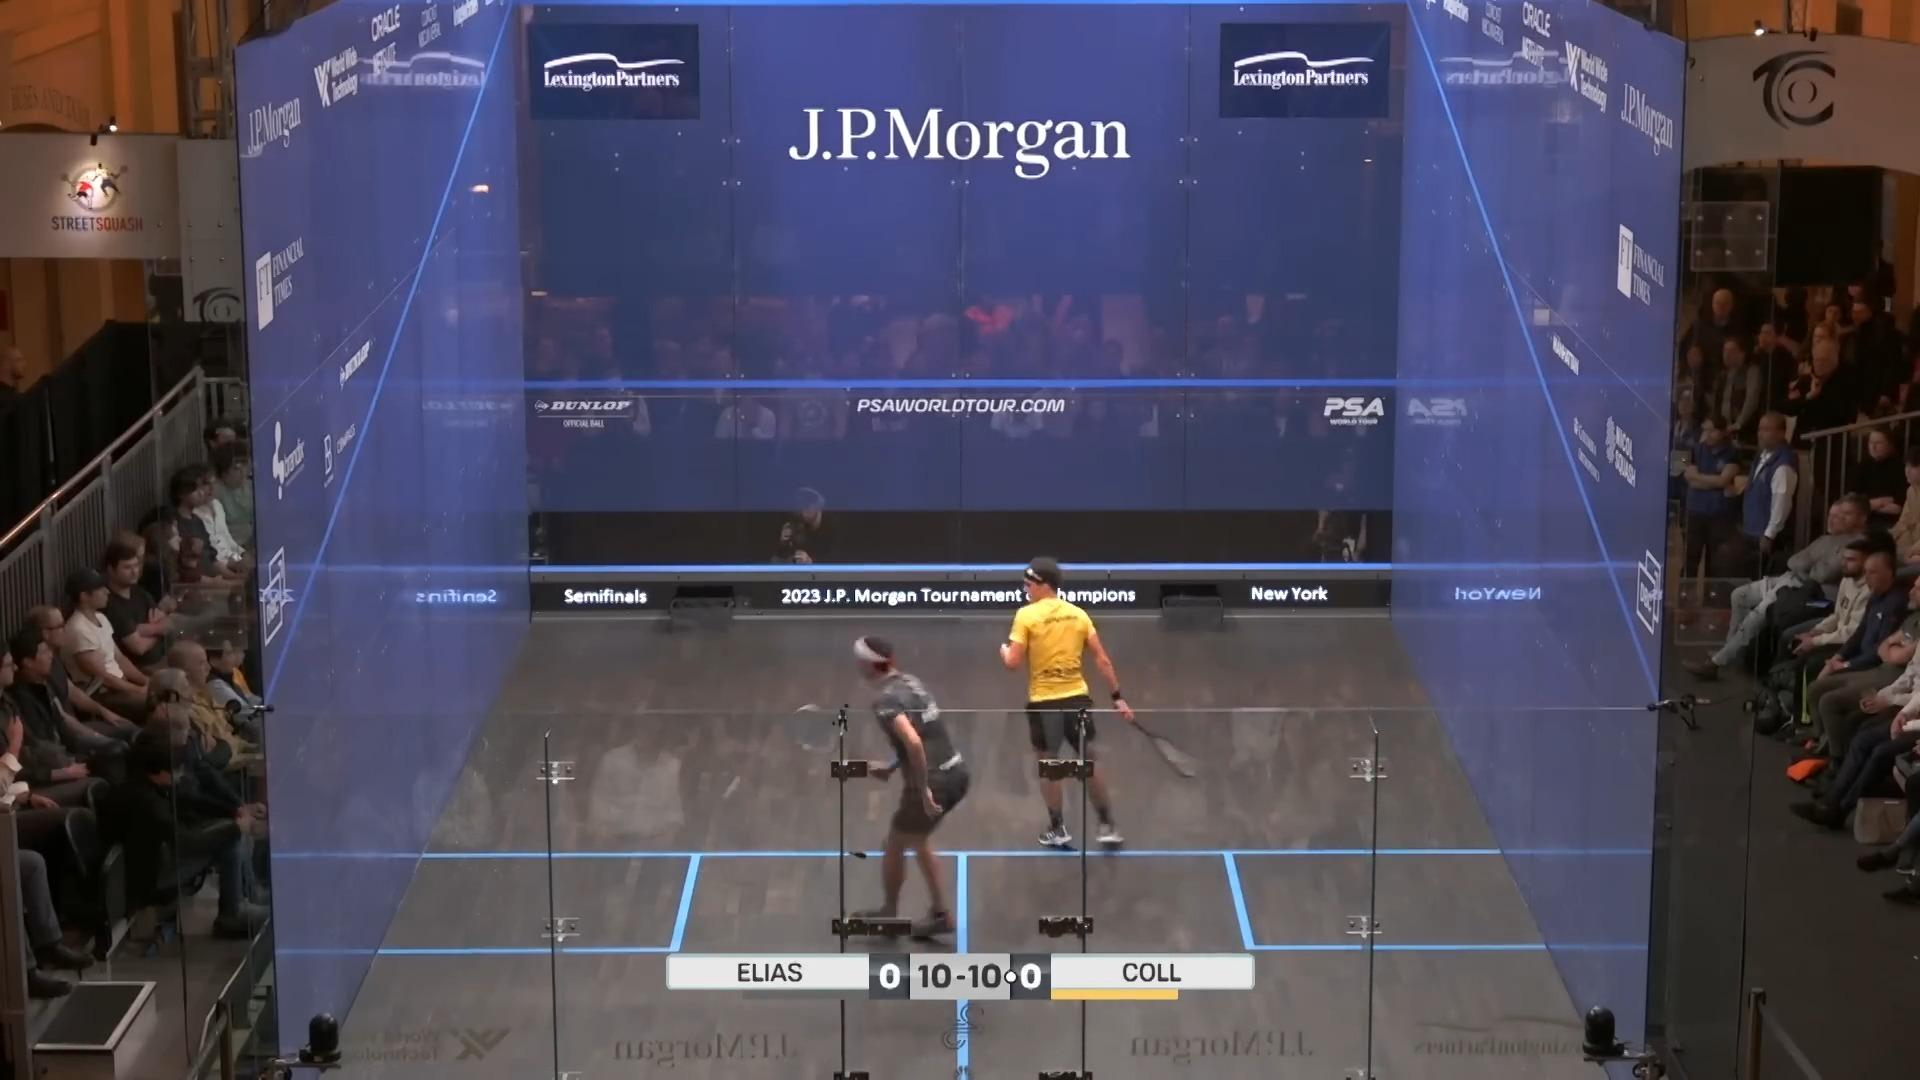Racket: (789, 695, 866, 774), (1130, 720, 1209, 787)
